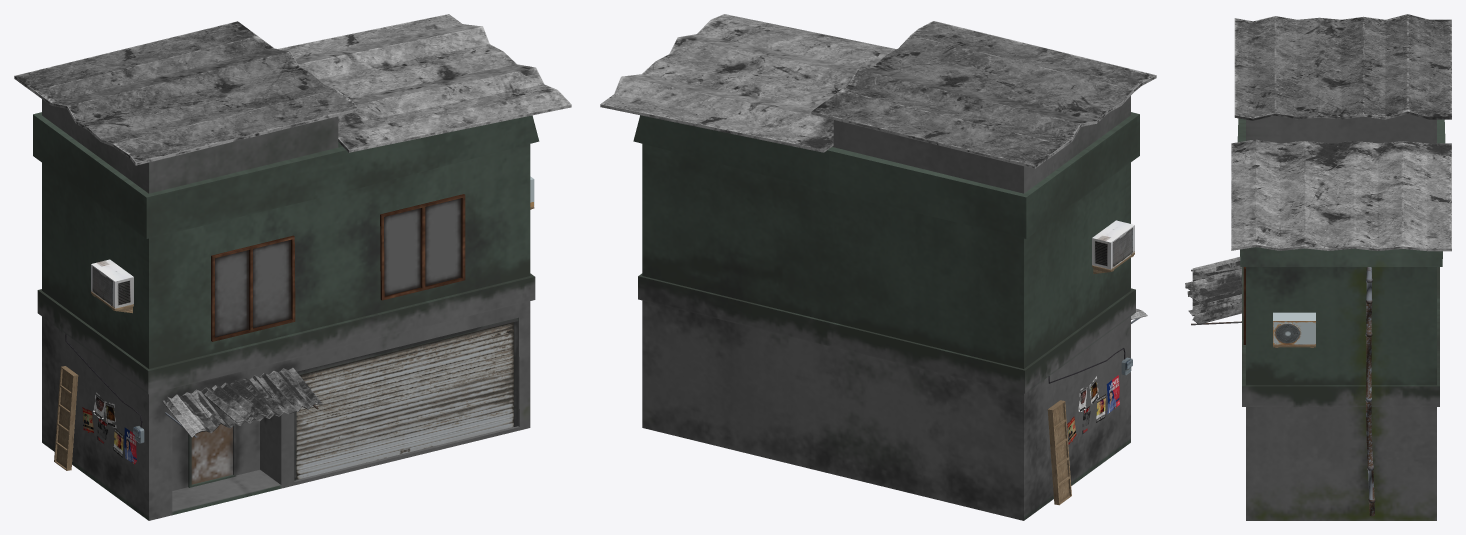
Rendered from two-story.glb.
3 renders of one model, left to right at view 1: azimuth 30°, elevation 25°; view 2: azimuth 150°, elevation 25°; view 3: azimuth 270°, elevation 25°, orthographic. The views are drawn at different scales.
Parts seen in each view (by area): view 1: main-col, roof.001, roof, roof-col, plank-col, ac.001, roof.002; view 2: main-col, roof.001, roof, plank-col, ac.001; view 3: main-col, roof, roof.001, roof-col, pipe, ac, roof.002.
Part boxes in pixels (<box>): main-col: <box>33,99,539,520</box>; roof.001: <box>14,21,358,165</box>; roof: <box>278,14,571,152</box>; roof-col: <box>162,367,322,437</box>; plank-col: <box>54,366,78,470</box>; ac.001: <box>91,259,133,308</box>; roof.002: <box>204,381,271,422</box>; main-col: <box>633,96,1139,520</box>; roof.001: <box>811,21,1156,168</box>; roof: <box>600,14,896,152</box>; plank-col: <box>1047,400,1071,505</box>; ac.001: <box>1092,220,1134,269</box>; main-col: <box>1237,114,1445,520</box>; roof: <box>1231,139,1451,251</box>; roof.001: <box>1234,14,1451,120</box>; roof-col: <box>1188,257,1241,325</box>; pipe: <box>1365,267,1375,516</box>; ac: <box>1273,312,1315,345</box>; roof.002: <box>1185,271,1241,301</box>.
Bounding box in the file's own units: 19.68 × 15.63 × 11.41.
21 materials, 21 textured.
